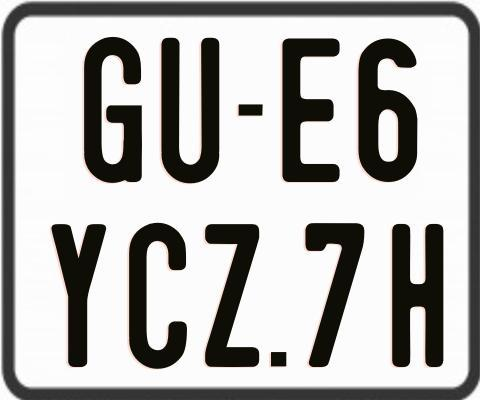6: (356, 37, 419, 181)
7: (302, 222, 362, 371)
C: (128, 222, 190, 369)
E: (281, 38, 341, 187)
G: (84, 35, 145, 182)
H: (389, 224, 446, 369)
U: (161, 37, 222, 183)
Y: (50, 222, 109, 368)
Z: (205, 223, 259, 368)
